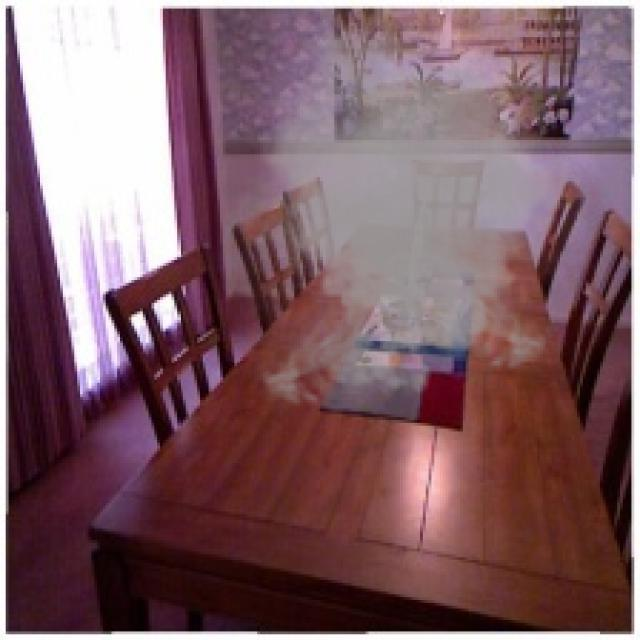Smoke: (203, 20, 606, 417)
